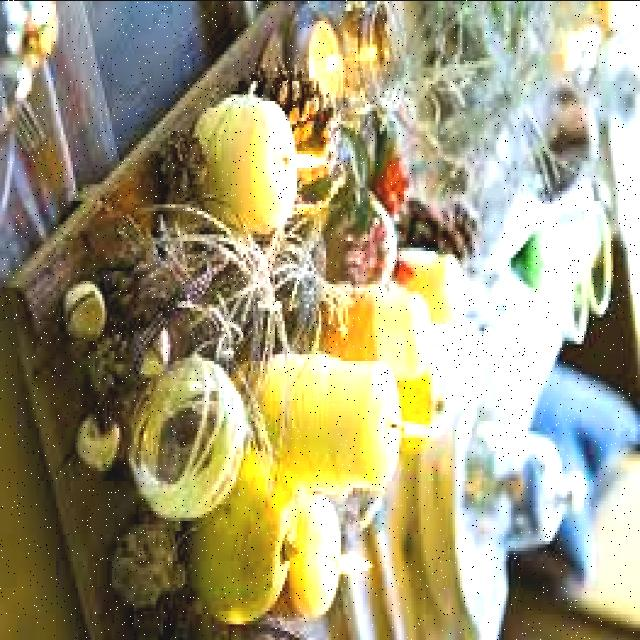api: (335, 541, 379, 591), (396, 408, 447, 442), (288, 138, 332, 174), (427, 312, 463, 348), (315, 41, 347, 81), (461, 271, 493, 305)
